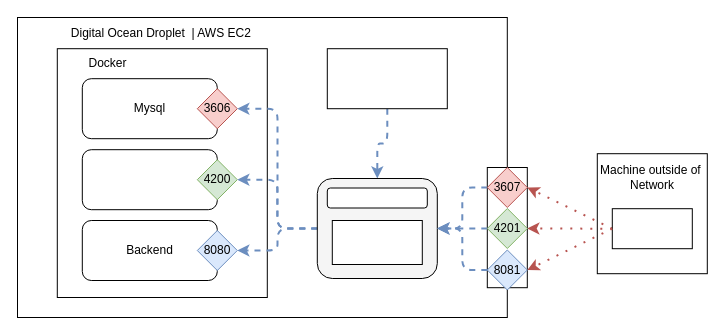
This 725x335 diagram has some shape labels left out. Here are the shapes that lost their labels. From the top down, the box of each, then its label:
(326, 48, 447, 109): In a test environment we just do a localhost:xxxx and acess it from here
(81, 149, 217, 210): Frontend
(326, 187, 427, 208): localhost:
(331, 220, 422, 264): Remote ip Digitalocean
(611, 208, 692, 249): Browser
